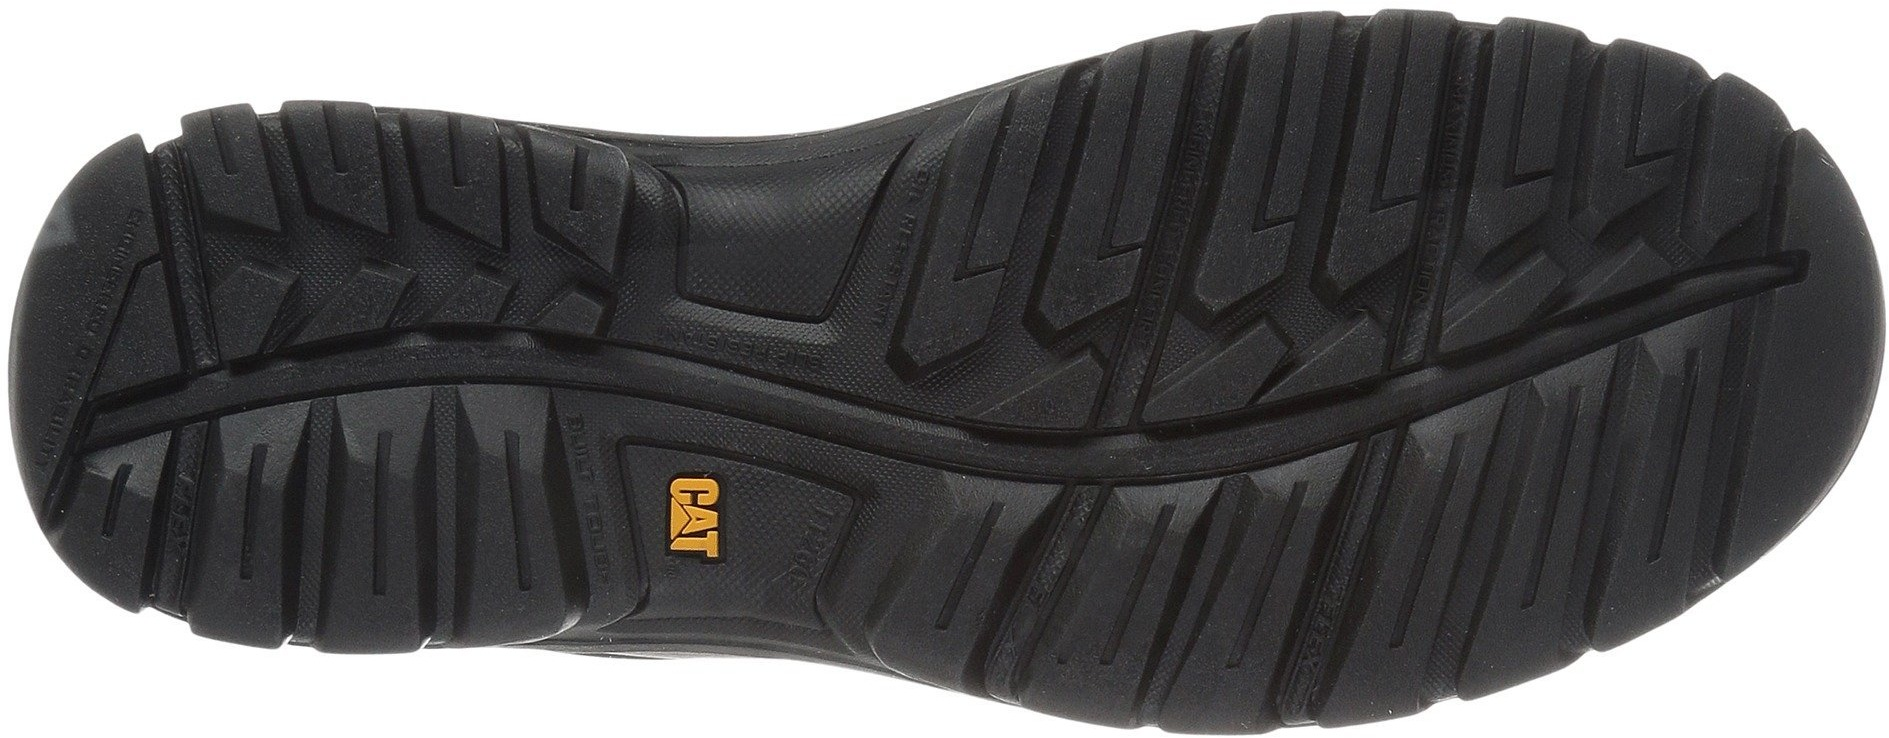quad: (301, 379, 589, 647), (882, 159, 1163, 400), (1444, 25, 1709, 268), (1350, 420, 1611, 645), (1179, 110, 1435, 330), (281, 126, 519, 347)
ribbon: (114, 283, 301, 467), (1650, 191, 1843, 366), (654, 309, 829, 464)
text: (641, 467, 748, 573)
